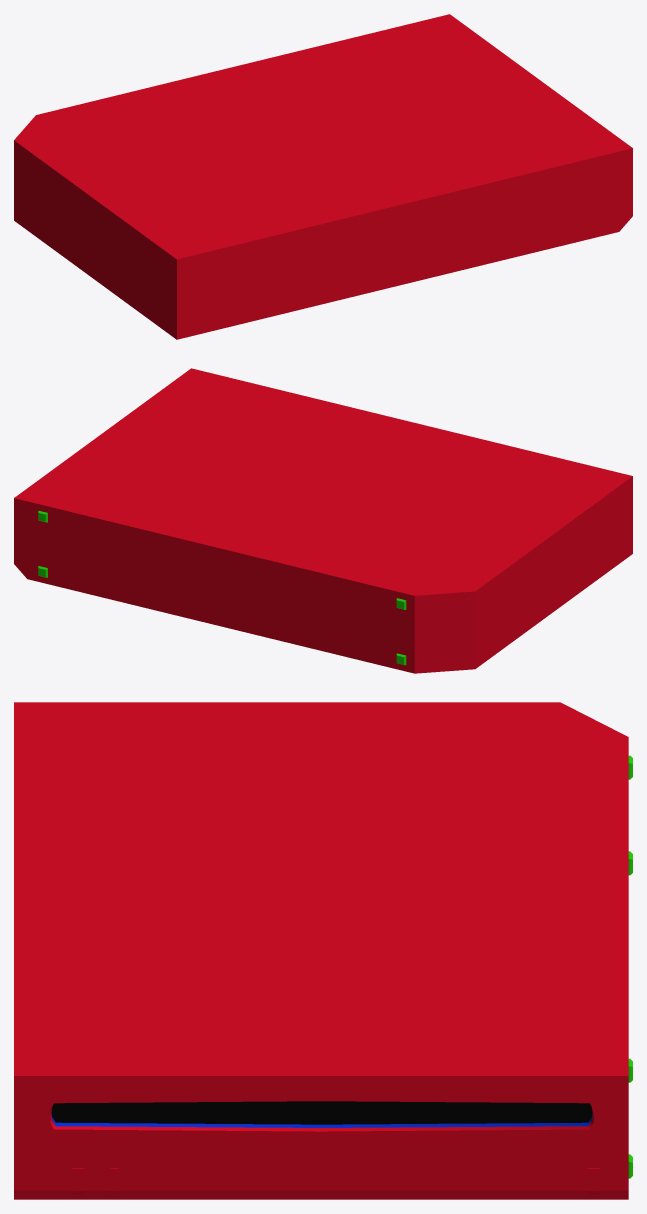
Rendered from WII.fbx.
3 renders of one model, top to bottom at view 1: azimuth 30°, elevation 25°; view 2: azimuth 150°, elevation 25°; view 3: azimuth 270°, elevation 25°, orthographic. The views are drawn at different scales.
Visible parts, largest first — view 1: WII; view 2: WII; view 3: WII.
Boxes of the visible parts, box(x1,y1,x2,y2) form: WII: box(14, 14, 632, 339); WII: box(14, 368, 632, 673); WII: box(14, 702, 632, 1199).
Bounding box in the file's own units: 0.4637 × 0.0814 × 0.324.
